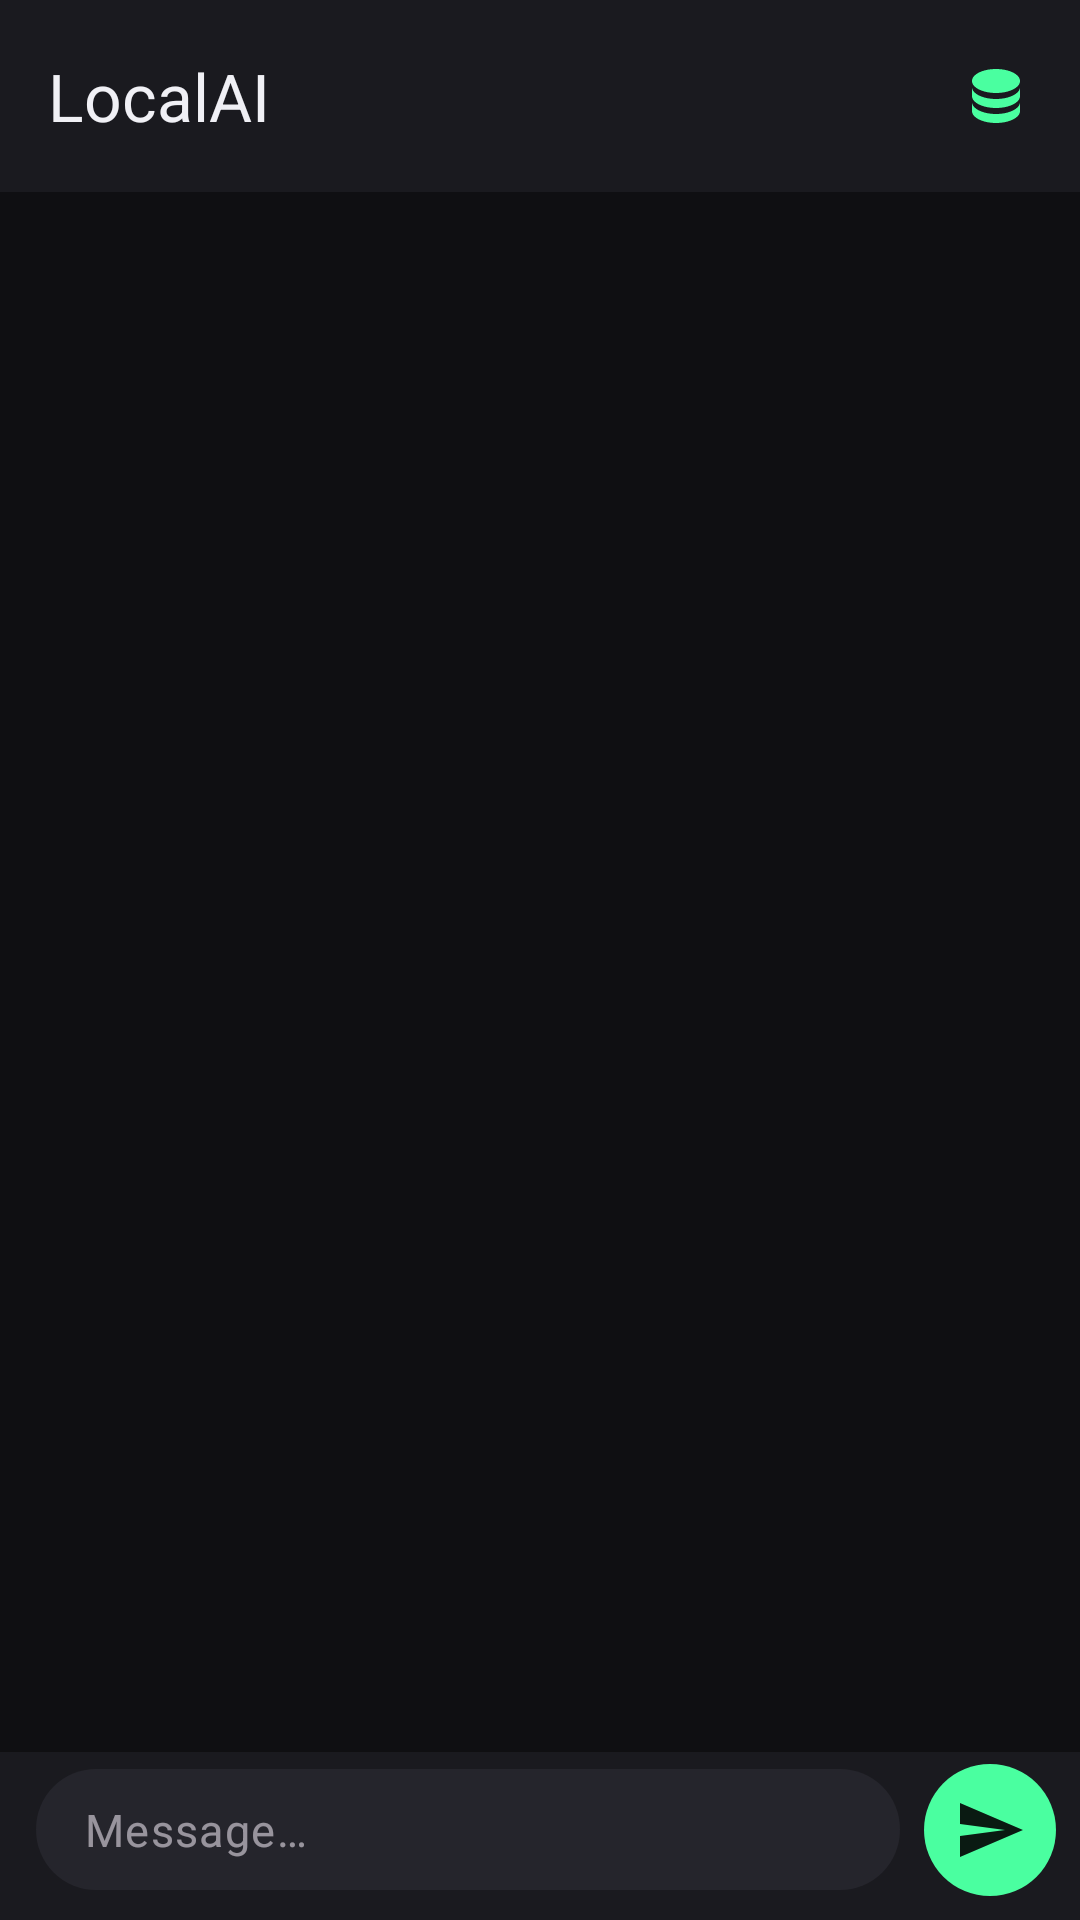

Where to tap for icons on this 1080px x 1920px app screen, as [x,y]:
Select model: [996,96]
Send: [990,1830]
